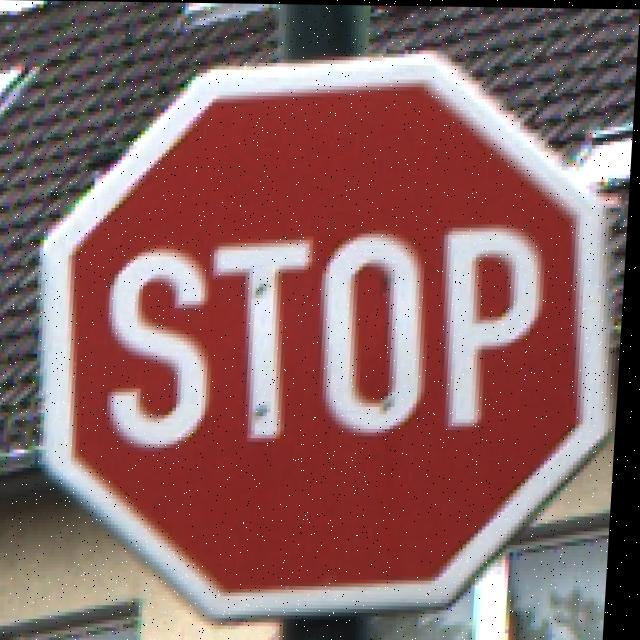stop: (33, 42, 638, 624)
